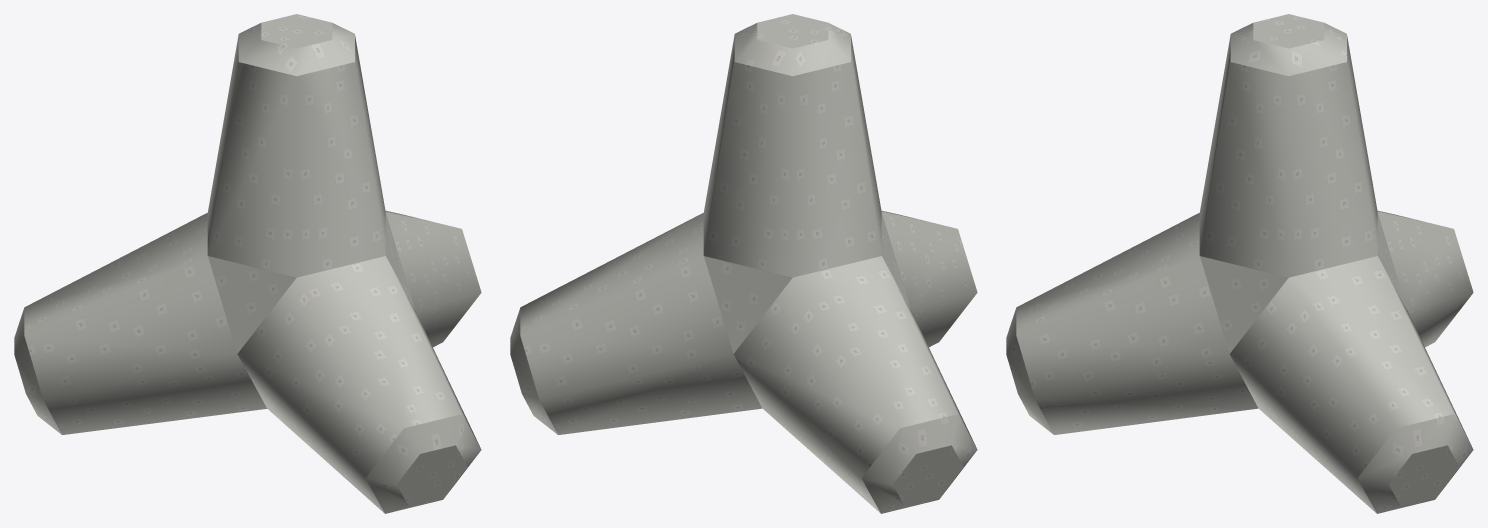
Rendered from 0490_Breakwater_Block.glb.
3 renders of one model, left to right at view 1: azimuth 30°, elevation 25°; view 2: azimuth 150°, elevation 25°; view 3: azimuth 270°, elevation 25°, orthographic.
Visible parts, largest first — view 1: part_0; view 2: part_0; view 3: part_0.
Boxes of the visible parts, bbox=[...] form: part_0: bbox=[14, 14, 481, 513]; part_0: bbox=[510, 14, 977, 513]; part_0: bbox=[1006, 14, 1473, 513].
Size of the model in its own units: 3.99 by 3.36 by 3.65.
Materials: 1 (1 with a texture image).
